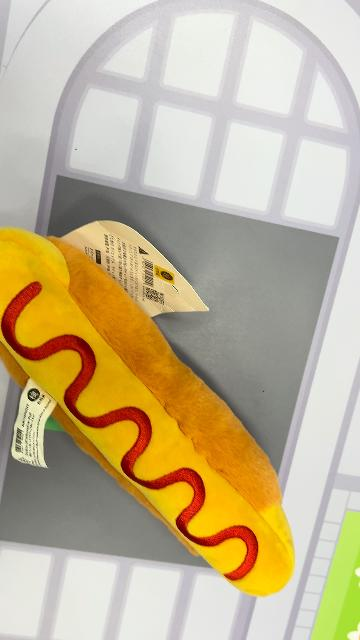hotdog: (1, 226, 296, 598)
